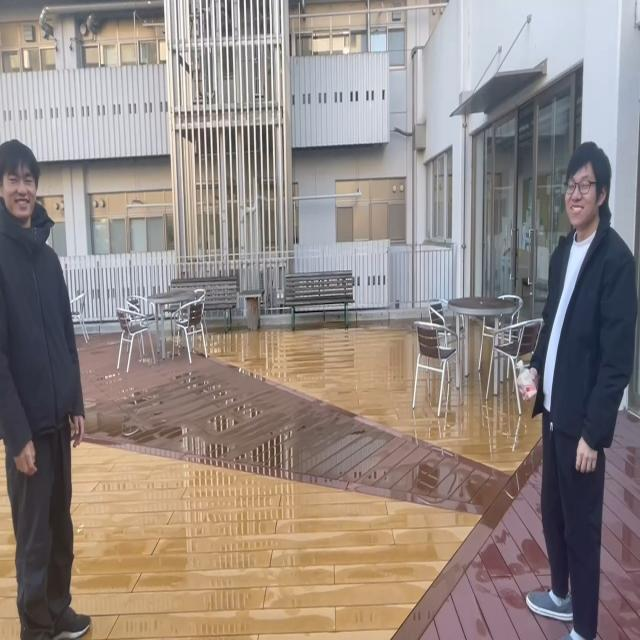bottle: (516, 359, 537, 404)
